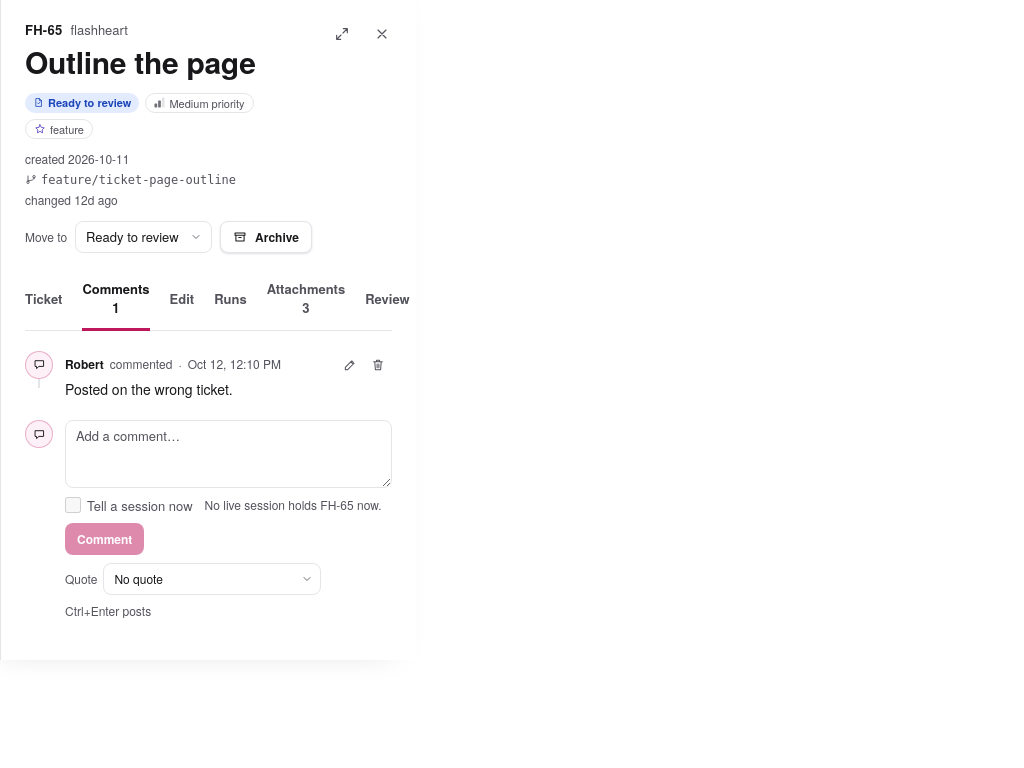
Test case: deleting a comment on the card panel (FH-140) › shows the server's refusal in the dialog and reloads
This screenshot has width=1024, height=768.
Step 1. Click the button named "Delete comment" → point(378, 364), box [364,350,392,378]
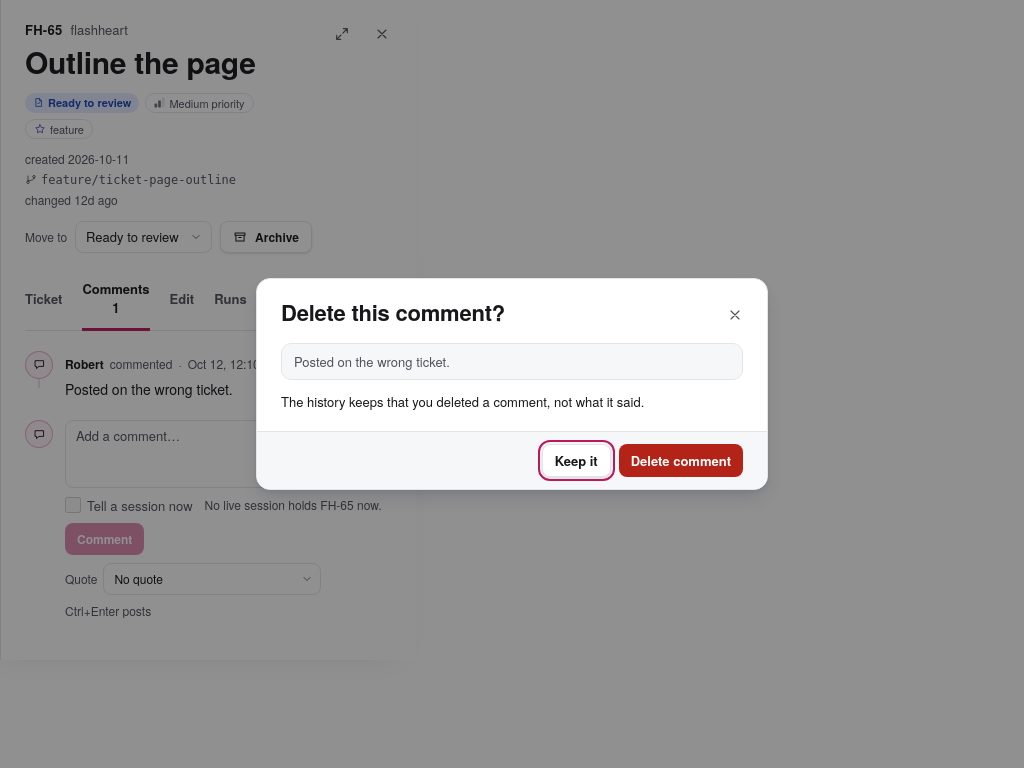
Step 2. Click the button "Delete comment" → point(681, 461), box [619,444,743,477]
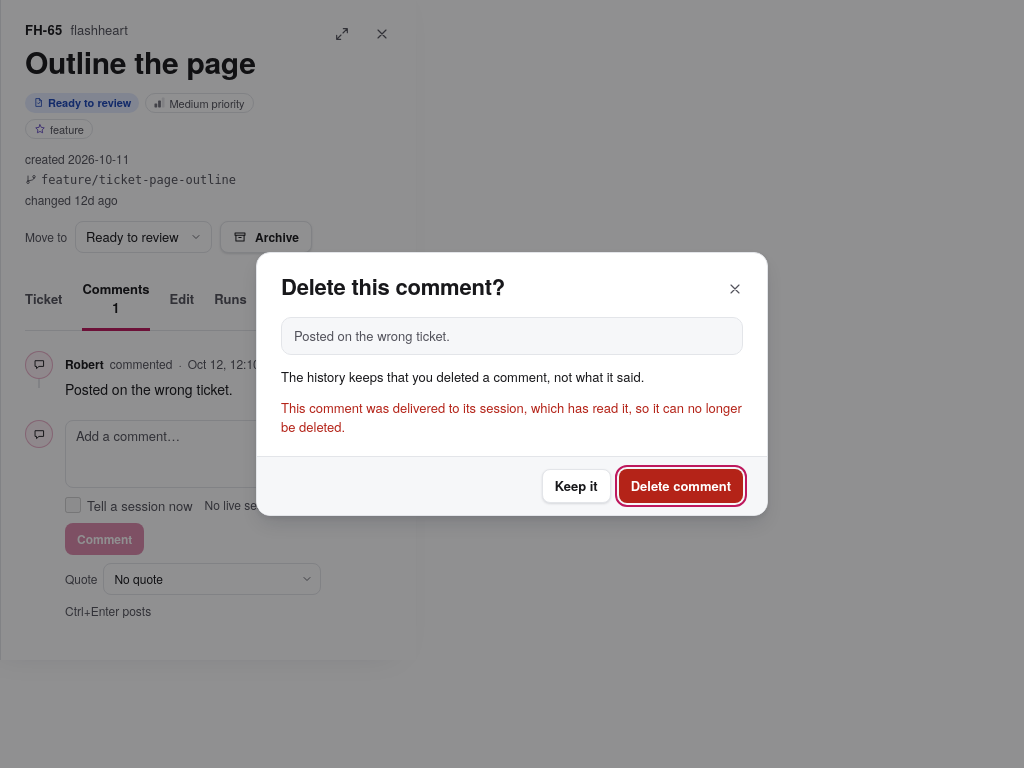
Expected: the message shows "can no longer be deleted", [281,398,742,436]
